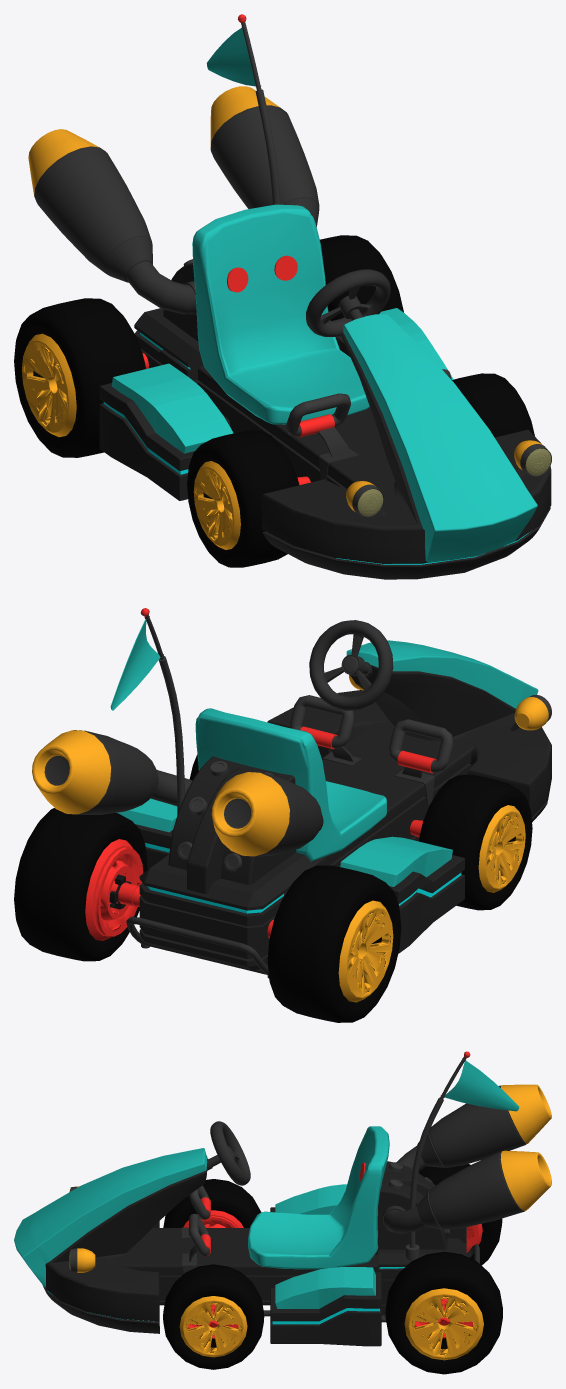
Rendered from car.obj.
3 views of the same model, one above another, from view 1: azimuth 30°, elevation 25°; view 2: azimuth 150°, elevation 25°; view 3: azimuth 270°, elevation 25° (orthographic). The views are drawn at different scales.
Visible parts, largest first — view 1: pCylinder5, pCube2, pCylinder18, polySurface12, polySurface15, pCube3, pCylinder17, polySurface14, polySurface16, pCylinder7, polySurface7, polySurface13 (+9 smaller); view 2: pCube3, pCylinder5, polySurface15, polySurface7, pCube2, pCylinder17, polySurface14, pCylinder18, polySurface12, pCylinder12, pCylinder7, polySurface16 (+11 smaller); view 3: pCylinder5, pCube2, polySurface11, pCube3, polySurface7, pCylinder17, pCylinder18, polySurface1, polySurface8, polySurface5.001, pCylinder12, polySurface14 (+10 smaller).
Boxes of the visible parts, x1,y1,x2,y2 form: pCylinder5: [261, 314, 551, 579]; pCube2: [192, 204, 369, 424]; pCylinder18: [28, 129, 152, 282]; polySurface12: [99, 363, 233, 500]; polySurface15: [14, 298, 145, 457]; pCube3: [134, 308, 395, 494]; pCylinder17: [210, 86, 319, 226]; polySurface14: [187, 430, 298, 567]; polySurface16: [22, 333, 76, 437]; pCylinder7: [306, 269, 390, 336]; polySurface7: [320, 235, 403, 320]; polySurface13: [193, 461, 240, 549]; pCube3: [139, 722, 473, 969]; pCylinder5: [267, 640, 551, 822]; polySurface15: [267, 865, 401, 1022]; polySurface7: [14, 808, 147, 961]; pCube2: [195, 708, 386, 861]; pCylinder17: [32, 730, 158, 814]; polySurface14: [418, 775, 532, 910]; pCylinder18: [211, 771, 322, 856]; polySurface12: [338, 836, 464, 953]; pCylinder12: [168, 756, 296, 893]; pCylinder7: [309, 620, 393, 710]; polySurface16: [338, 900, 393, 1002]; pCylinder5: [14, 1148, 207, 1333]; pCube2: [248, 1126, 389, 1269]; polySurface11: [270, 1267, 381, 1346]; pCube3: [109, 1227, 466, 1315]; polySurface7: [385, 1251, 502, 1374]; pCylinder17: [417, 1150, 551, 1229]; pCylinder18: [417, 1084, 551, 1167]; polySurface1: [163, 1264, 264, 1369]; polySurface8: [404, 1288, 483, 1360]; polySurface5.001: [179, 1296, 247, 1357]; pCylinder12: [375, 1161, 465, 1254]; polySurface14: [163, 1179, 260, 1227].
Size of the model in its own units: 5.42 by 6 by 10.21.
